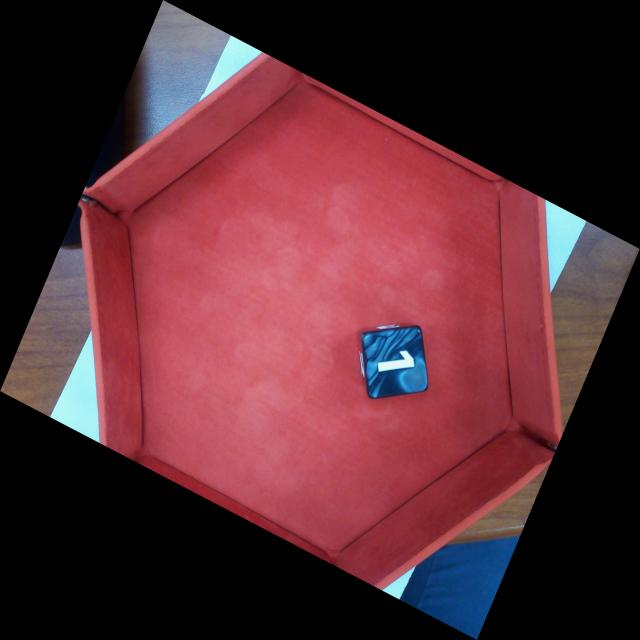dice: (362, 326, 429, 399)
